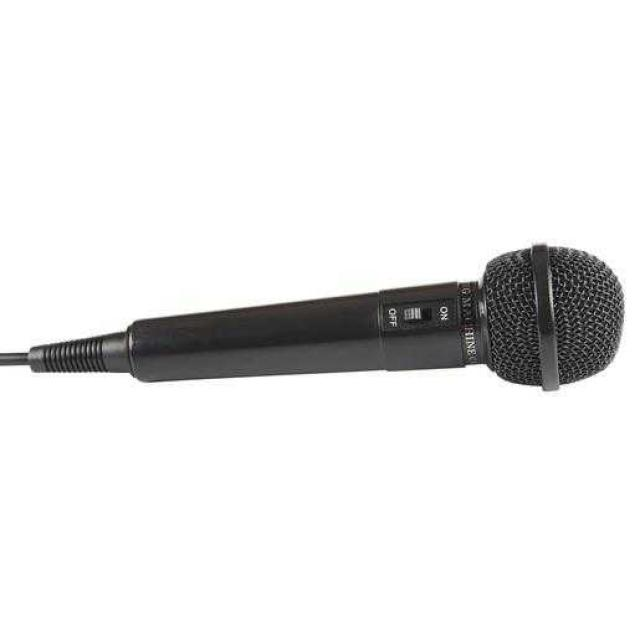microphone: (3, 244, 624, 389)
